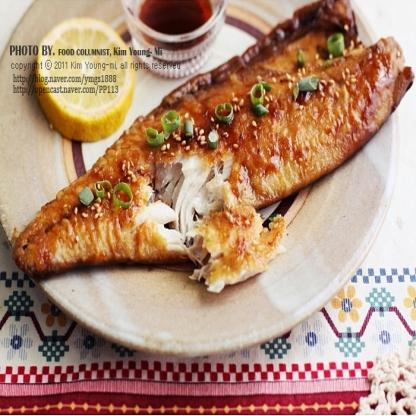Peixe: (7, 1, 397, 326)
